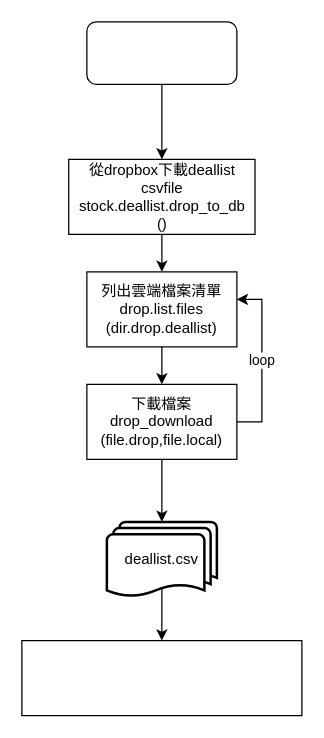
This 324x738 diagram has some shape labels left out. Each missing label, with the centre of its shape:
"stockdeallist" goes at point 161,52.
"取得多個日期、多個股票的交易明細 df stock.deallist.twse.get (dates, stocks)" goes at point 161,677.
